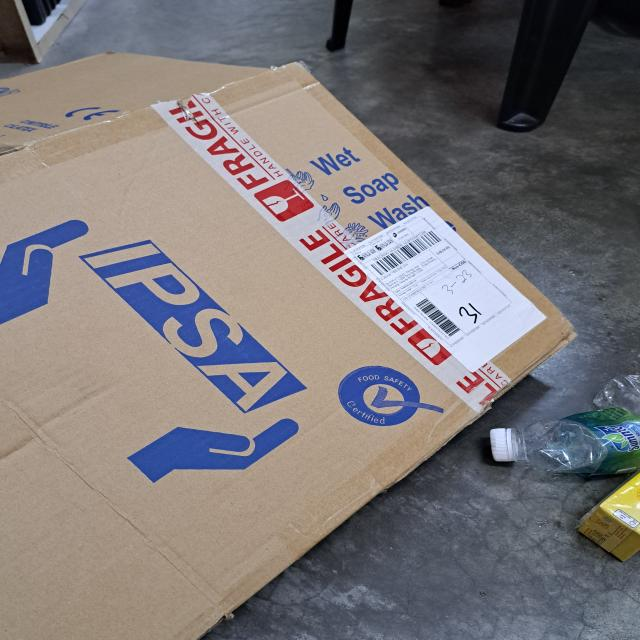drink carton: (0, 49, 574, 640), (576, 472, 640, 564)
plastic bottle: (488, 408, 640, 481), (591, 368, 640, 411)
plastic bottle cap: (488, 427, 526, 463)
